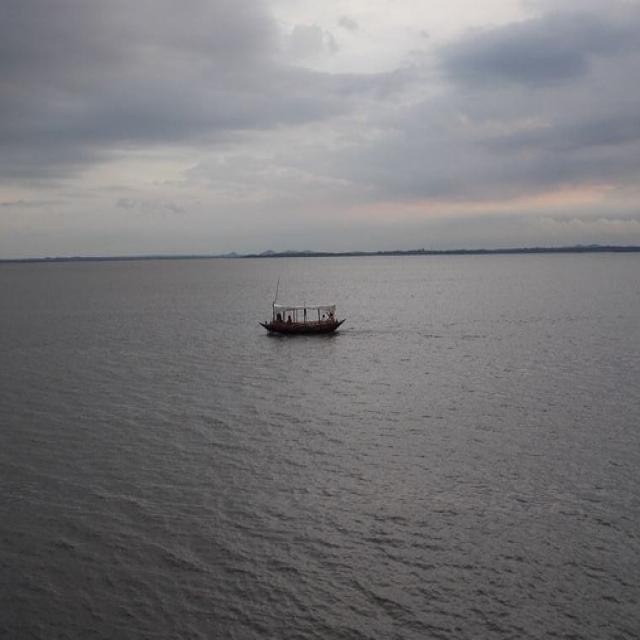fishing boat: (265, 303, 351, 346)
